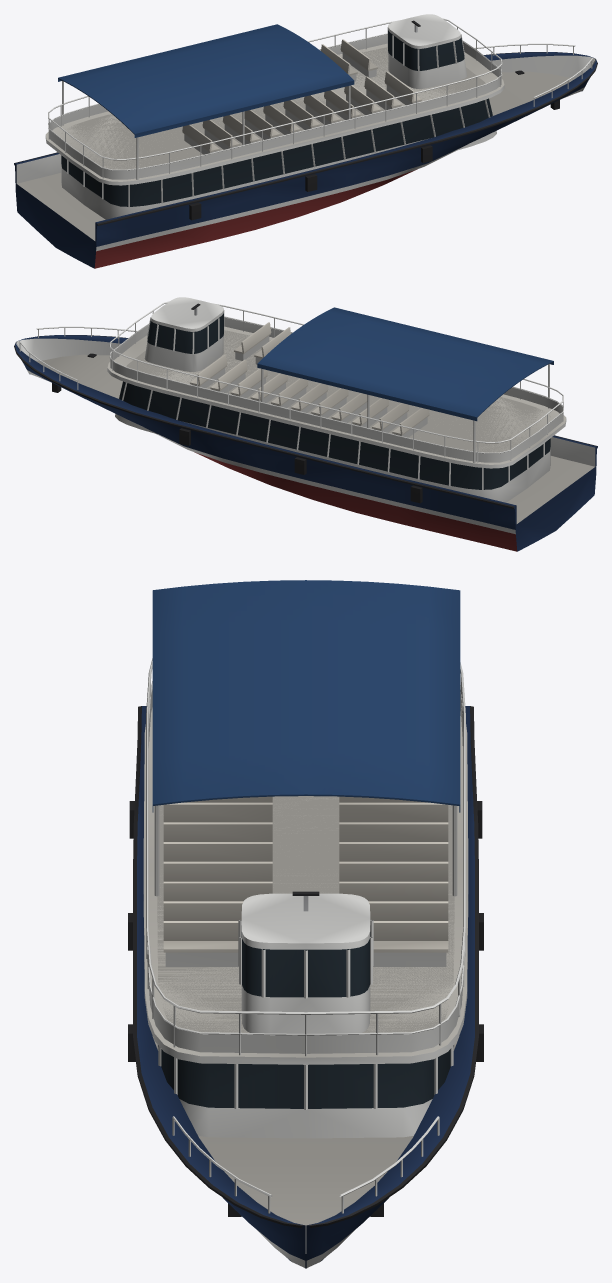
Rendered from tourboat.glb.
3 renders of one model, top to bottom at view 1: azimuth 30°, elevation 25°; view 2: azimuth 150°, elevation 25°; view 3: azimuth 270°, elevation 25°, orthographic. The views are drawn at different scales.
Visible parts, largest first — view 1: lod0; view 2: lod0; view 3: lod0.
Boxes of the visible parts, x1=… form: lod0: x1=14, y1=14, x2=597, y2=268; lod0: x1=14, y1=297, x2=597, y2=551; lod0: x1=128, y1=580, x2=483, y2=1268.
Size of what is drawn, in the model's own units: 28 by 6.8 by 8.
